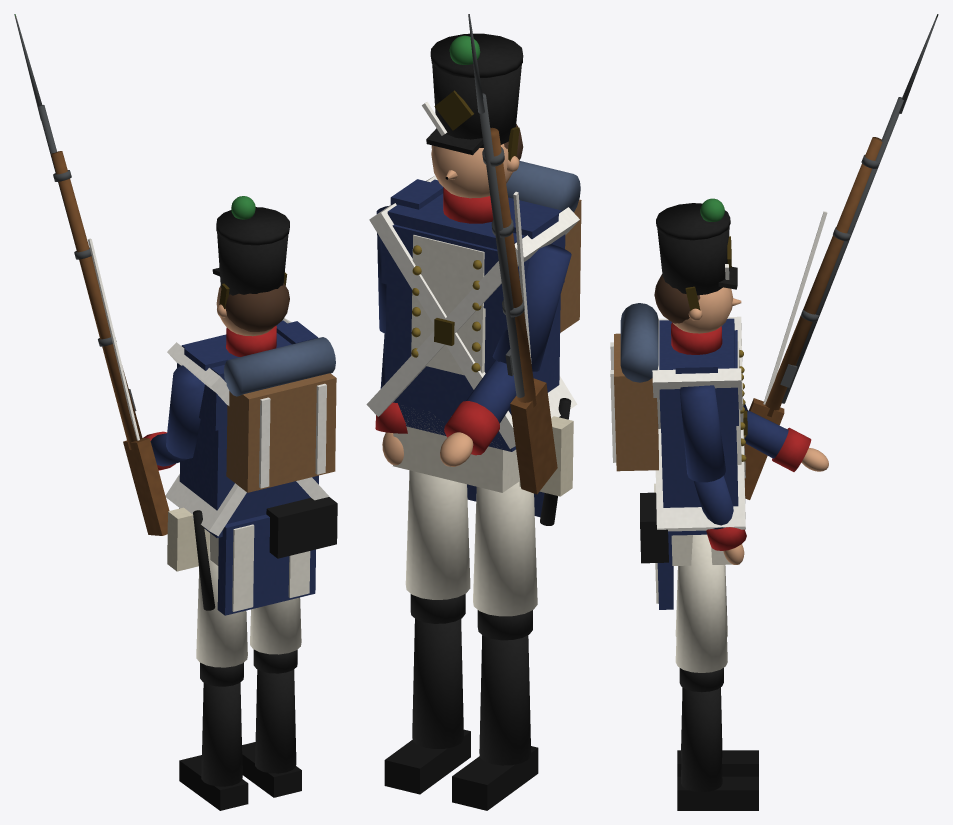
Rendered from soldier_france.glb.
3 renders of one model, left to right at view 1: azimuth 30°, elevation 25°; view 2: azimuth 150°, elevation 25°; view 3: azimuth 270°, elevation 25°, orthographic. The views are drawn at different scales.
Visible parts, largest first — view 1: soldier_france; view 2: soldier_france; view 3: soldier_france.
Part boxes in pixels (x1,y1,x2,y2): soldier_france: [14, 14, 337, 810]; soldier_france: [366, 14, 581, 810]; soldier_france: [610, 14, 938, 810].
Size of the model in its own units: 0.681 by 2.44 by 1.01.
Materials: 1 (1 with a texture image).
